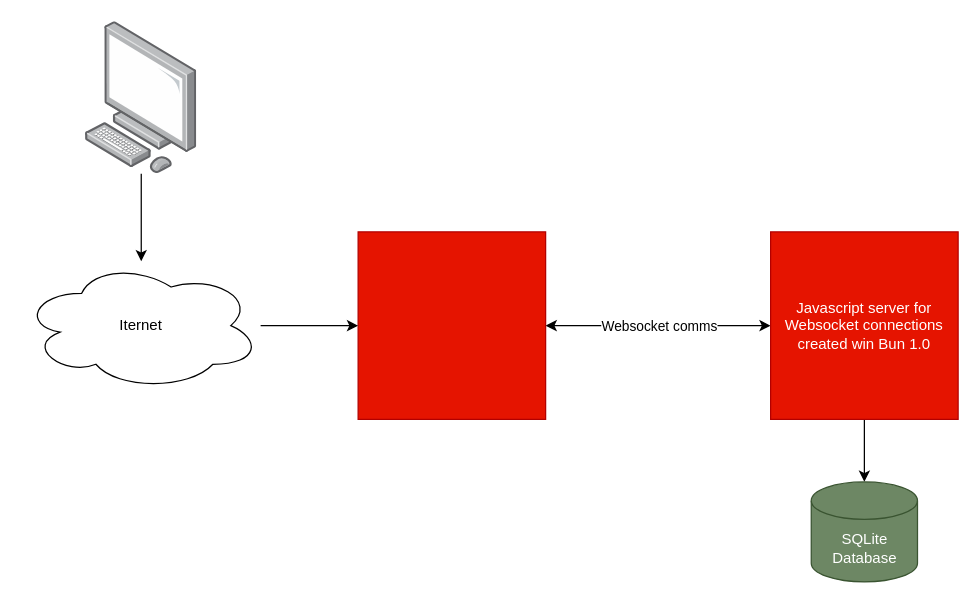
This 980x604 diagram has some shape labels left out. Each missing label, with the centre of its shape:
React Web server in NodeJS 20.10 Subdomino with SSL https://abb.bytebox.es: the point at 451,325
User: the point at 141,97
